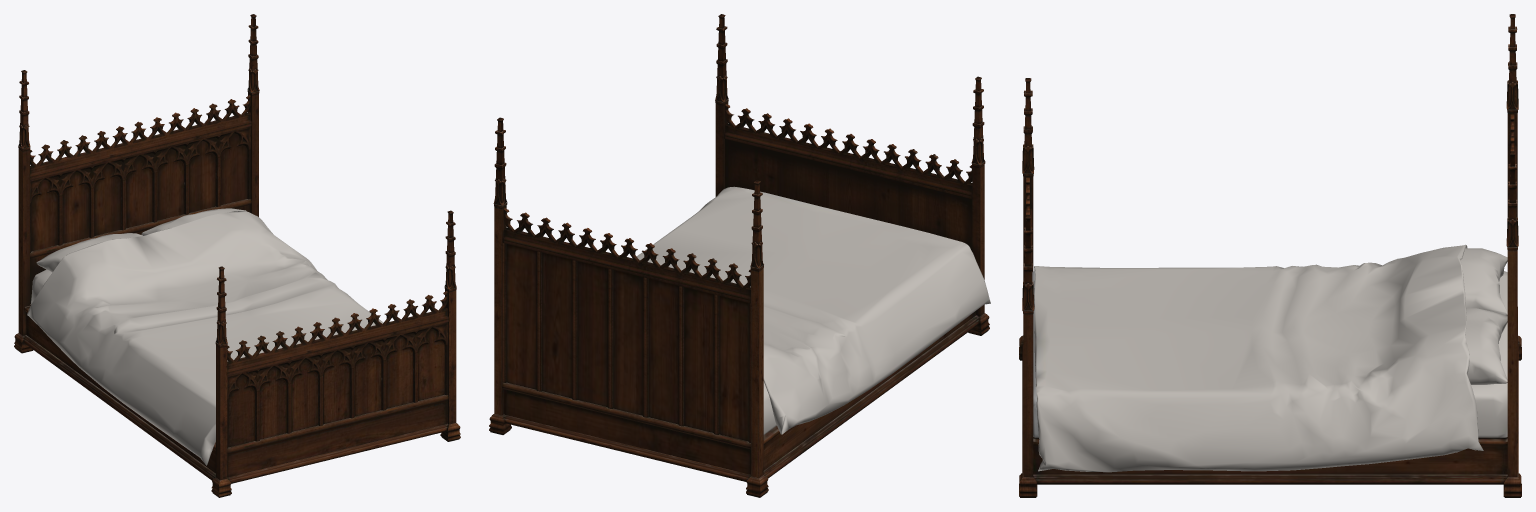
The model's file is GothicBed_01.glb.
3 views of the same model, side by side, from view 1: azimuth 30°, elevation 25°; view 2: azimuth 150°, elevation 25°; view 3: azimuth 270°, elevation 25° (orthographic). The views are drawn at different scales.
Visible parts, largest first — view 1: GothicBed_01; view 2: GothicBed_01; view 3: GothicBed_01.
Part boxes in pixels (<box>): GothicBed_01: <box>14,14,460,497</box>; GothicBed_01: <box>489,14,990,497</box>; GothicBed_01: <box>1019,14,1521,497</box>.
Size of the model in its own units: 1.49 by 1.53 by 2.04.
Materials: 1 (1 with a texture image).
